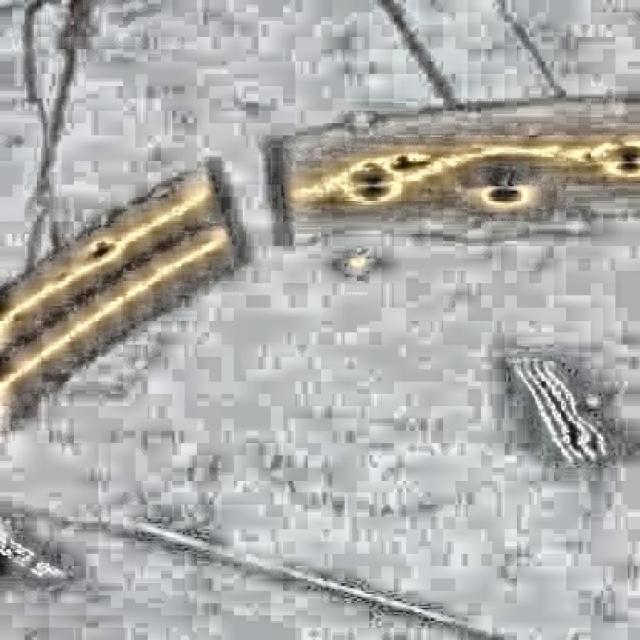dent: (468, 177, 544, 212), (344, 158, 398, 204), (595, 132, 640, 182), (86, 236, 120, 266), (392, 151, 432, 174), (342, 252, 380, 276)
